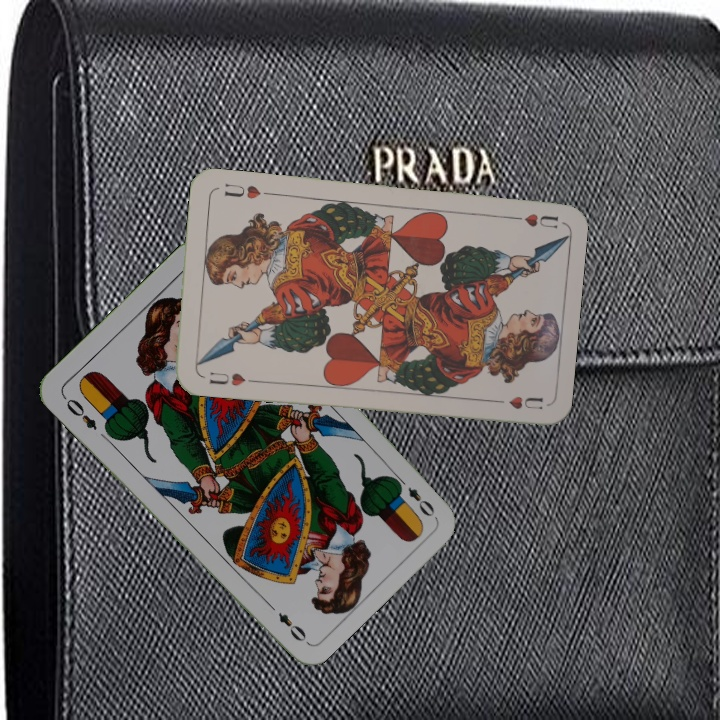EO: (392, 472, 438, 520), (58, 392, 100, 433)
HU: (503, 209, 561, 231), (205, 367, 248, 389)
